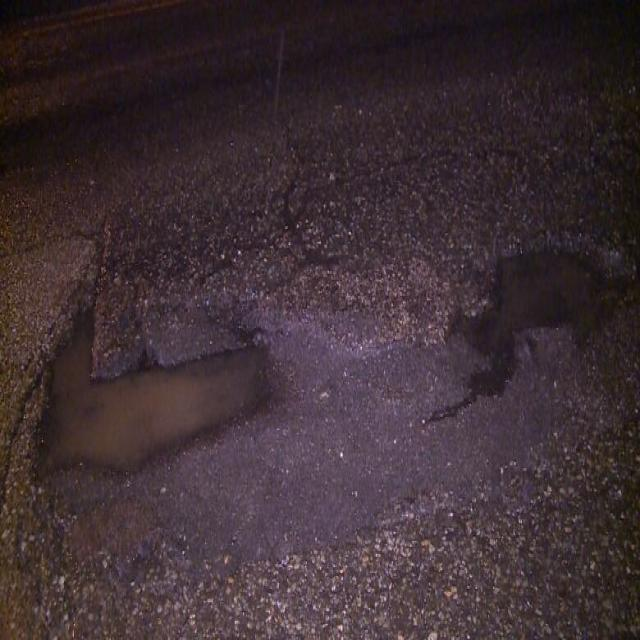Pothole: (42, 313, 269, 470), (468, 253, 600, 392)
